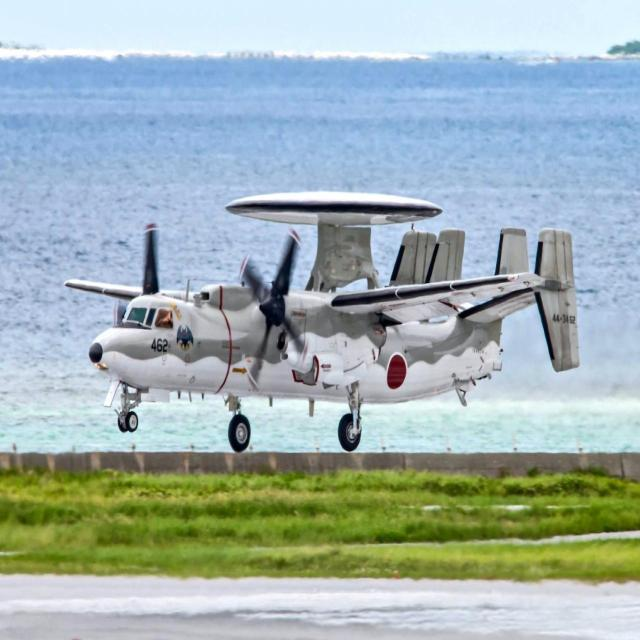MIL_Plane: (64, 191, 579, 453)
